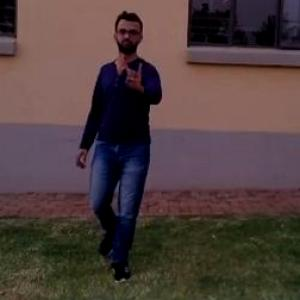takeoff-hand: (116, 54, 151, 95)
